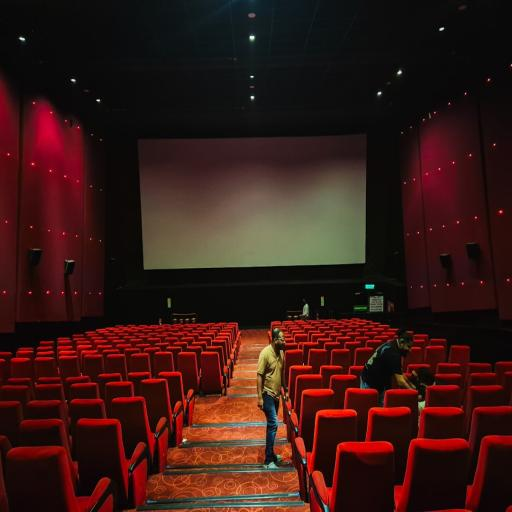face: (399, 343, 412, 357), (275, 332, 285, 350)
